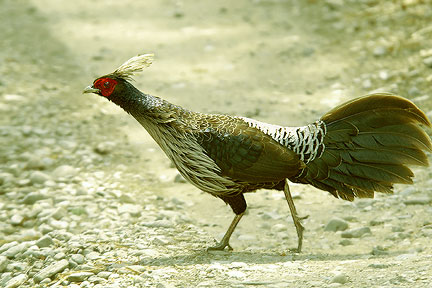bird: (77, 47, 432, 264)
